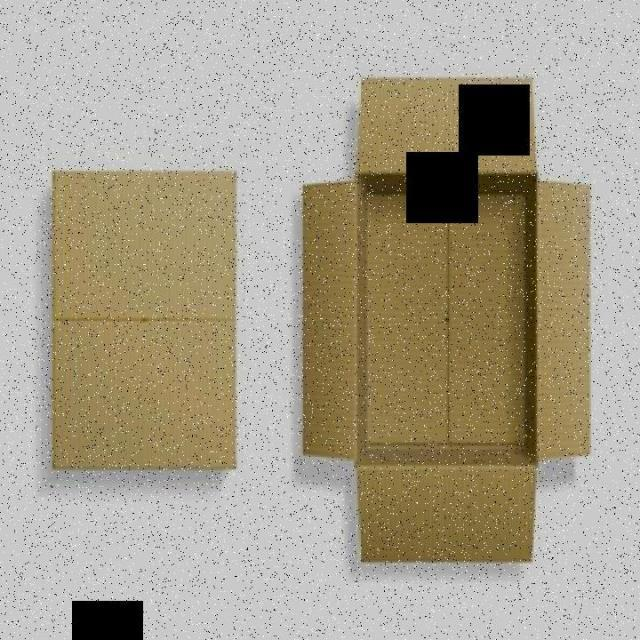box: (296, 74, 606, 558), (45, 165, 246, 478)
